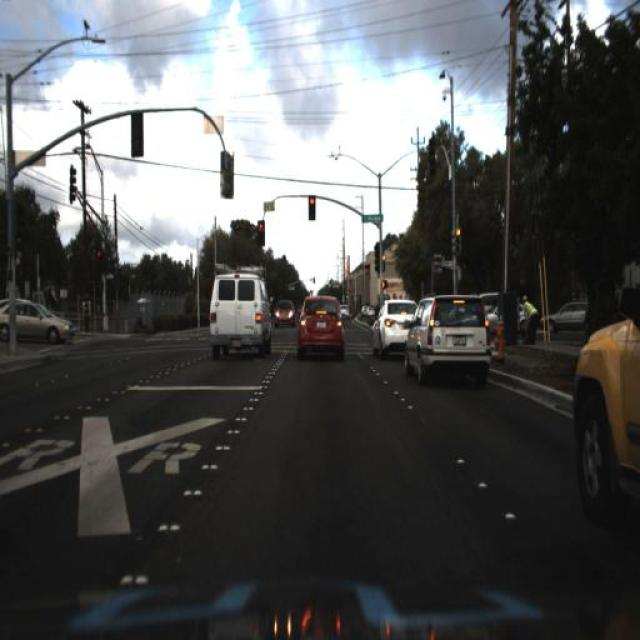car: (407, 288, 492, 388), (203, 268, 276, 359), (1, 282, 78, 350), (290, 287, 346, 364), (0, 294, 76, 350), (368, 294, 408, 360), (373, 298, 415, 353), (541, 292, 588, 338), (272, 294, 298, 334), (274, 297, 292, 323)
trafficLight: (519, 288, 539, 346), (522, 293, 540, 346)
trafficLight-Green: (257, 220, 267, 244)
trafficLight-RedLeft: (450, 223, 465, 261), (452, 219, 466, 245), (379, 250, 390, 276), (308, 191, 316, 224)
trafficLight-Yellow: (90, 242, 104, 278)
